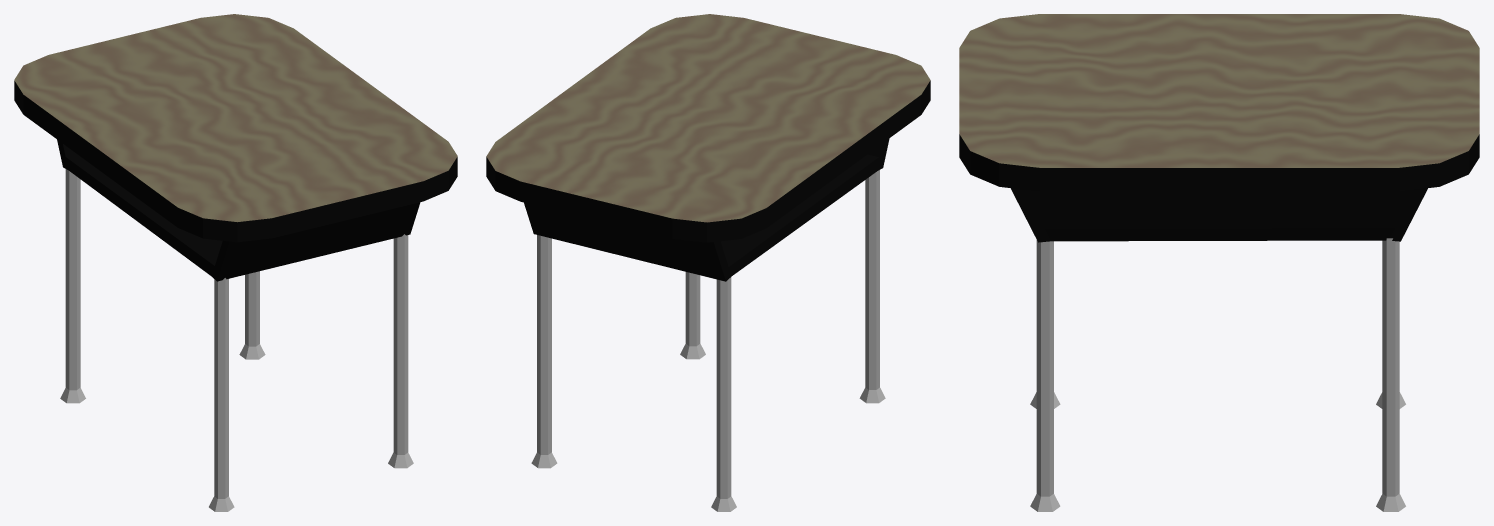
The model's file is desk.glb.
3 renders of one model, left to right at view 1: azimuth 30°, elevation 25°; view 2: azimuth 150°, elevation 25°; view 3: azimuth 270°, elevation 25°, orthographic. The views are drawn at different scales.
Parts seen in each view (by area): view 1: Cube; view 2: Cube; view 3: Cube.
Boxes of the visible parts, <box> form: Cube: <box>14,14,457,511</box>; Cube: <box>486,14,930,511</box>; Cube: <box>959,14,1479,511</box>.
Bounding box in the file's own units: 1.4 × 1.55 × 2.
Materials: 3 (1 with a texture image).
